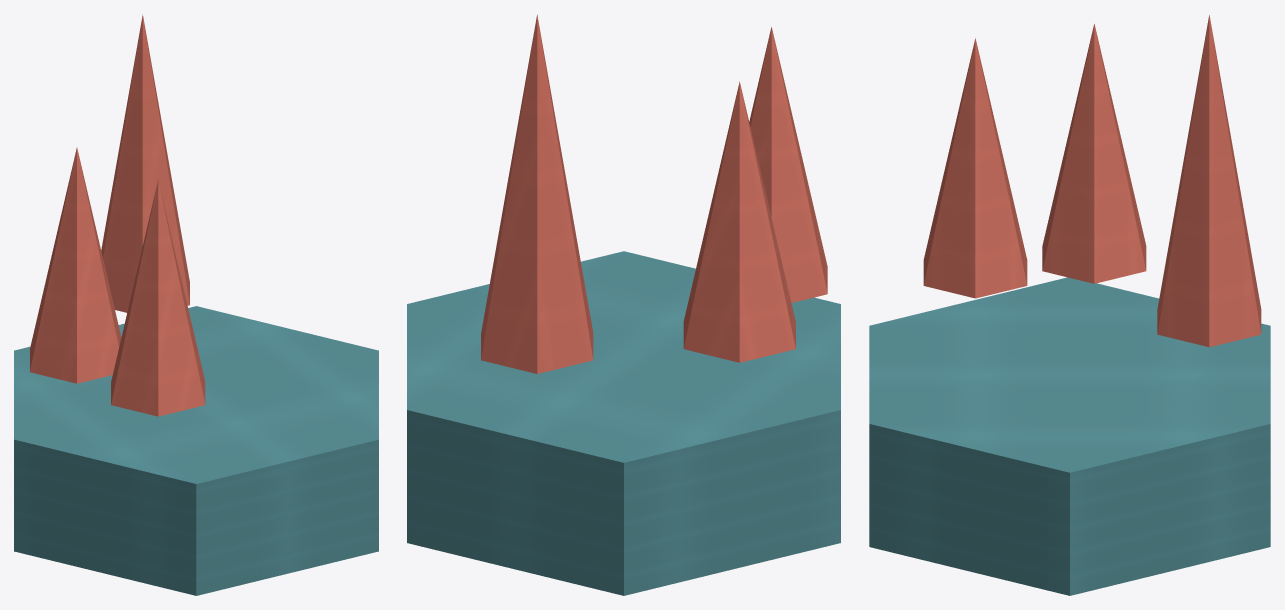
Rendered from atlas100-s071-a12.lod2.glb.
The picture shows the model from 3 angles, left to right: view 1: azimuth 30°, elevation 25°; view 2: azimuth 150°, elevation 25°; view 3: azimuth 270°, elevation 25°; orthographic projection. The views are drawn at different scales.
Parts seen in each view (by area): view 1: atlas100-s071-a12:part-000, atlas100-s071-a12:part-002, atlas100-s071-a12:part-005, atlas100-s071-a12:part-003; view 2: atlas100-s071-a12:part-000, atlas100-s071-a12:part-003, atlas100-s071-a12:part-005, atlas100-s071-a12:part-002; view 3: atlas100-s071-a12:part-000, atlas100-s071-a12:part-003, atlas100-s071-a12:part-005, atlas100-s071-a12:part-002.
Part boxes in pixels (x1,y1,x2,y2): atlas100-s071-a12:part-000: (14, 306, 378, 595); atlas100-s071-a12:part-002: (111, 180, 205, 416); atlas100-s071-a12:part-005: (30, 147, 121, 383); atlas100-s071-a12:part-003: (101, 14, 189, 312); atlas100-s071-a12:part-000: (407, 251, 840, 595); atlas100-s071-a12:part-003: (481, 14, 593, 373); atlas100-s071-a12:part-005: (683, 81, 795, 362); atlas100-s071-a12:part-002: (749, 27, 827, 302); atlas100-s071-a12:part-000: (869, 277, 1270, 595); atlas100-s071-a12:part-003: (1157, 15, 1261, 347); atlas100-s071-a12:part-005: (1042, 24, 1146, 283); atlas100-s071-a12:part-002: (923, 38, 1027, 298).
Bounding box in the file's own units: 1.16 × 1.35 × 1.
Materials: 2 (2 with a texture image).
